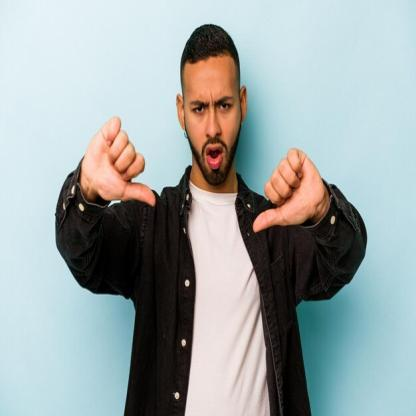thumb_down: (80, 111, 158, 207), (250, 145, 326, 235)
